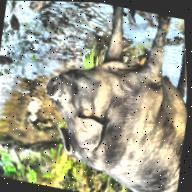boar: (25, 1, 192, 192)
